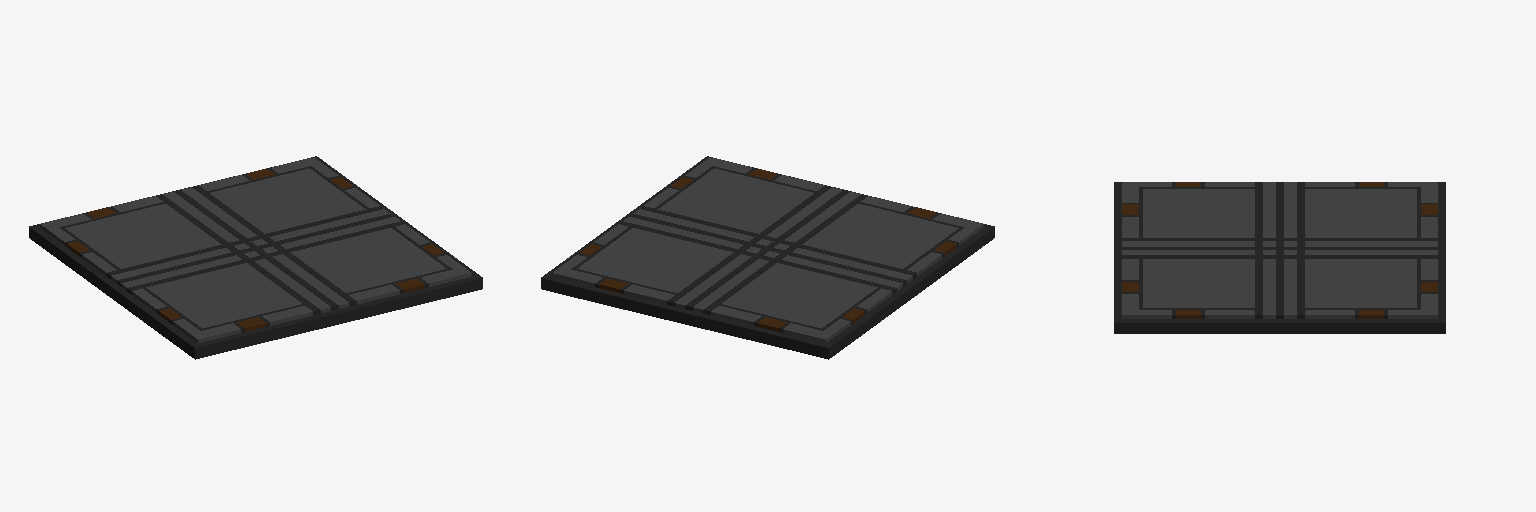
The picture shows the model from 3 angles: view 1: azimuth 30°, elevation 25°; view 2: azimuth 150°, elevation 25°; view 3: azimuth 270°, elevation 25°; orthographic projection.
Parts seen in each view (by area): view 1: Model; view 2: Model; view 3: Model.
Part boxes in pixels (left/top/right/bottom): Model: left=29, top=156, right=482, bottom=359; Model: left=541, top=156, right=994, bottom=359; Model: left=1114, top=182, right=1445, bottom=333.
Size of the model in its own units: 32 by 1.6 by 32.
1 materials, 1 textured.